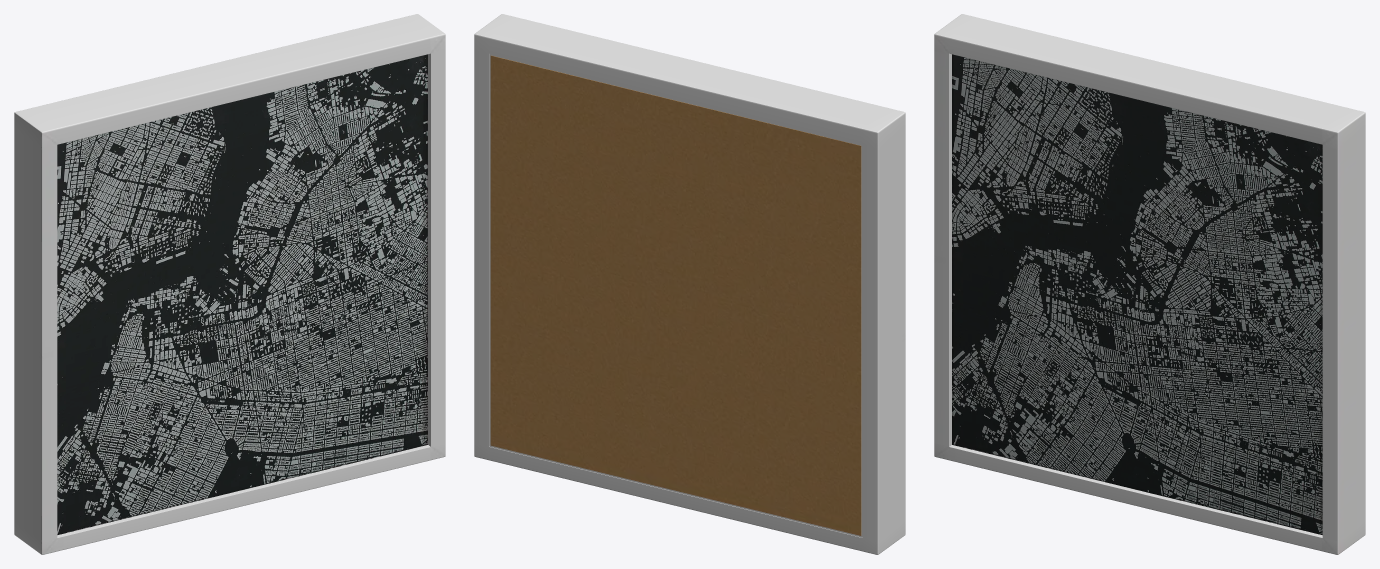
File: abo-B073P66TVD.glb
3 views of the same model, side by side, from view 1: azimuth 30°, elevation 25°; view 2: azimuth 150°, elevation 25°; view 3: azimuth 330°, elevation 25° (orthographic).
Size of the model in its own units: 0.305 by 0.305 by 0.037.
1 material, 1 textured.
